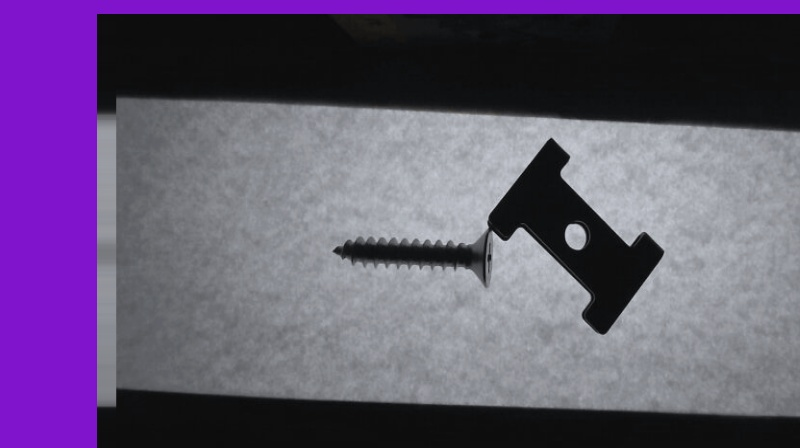O002: (485, 134, 665, 337)
S001: (326, 224, 494, 289)
